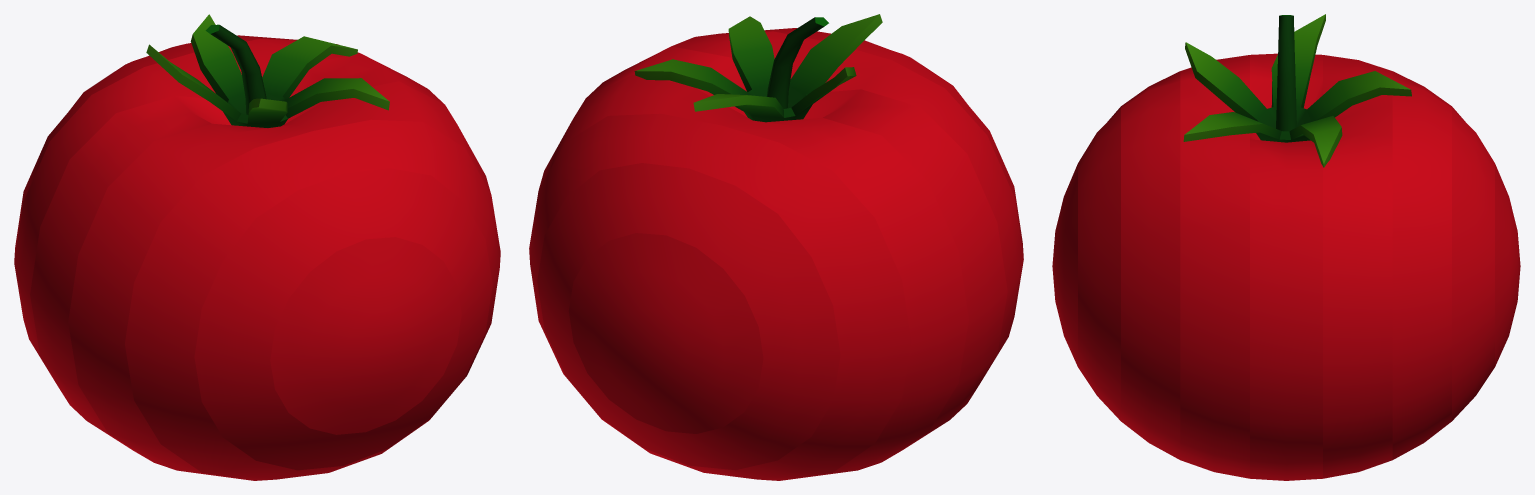
The model's file is totmoto.fbx.
The picture shows the model from 3 angles, left to right: view 1: azimuth 30°, elevation 25°; view 2: azimuth 150°, elevation 25°; view 3: azimuth 270°, elevation 25°; orthographic projection. The views are drawn at different scales.
Parts seen in each view (by area): view 1: Tomato, Tomato_Slice_01; view 2: Tomato, Tomato_Slice_09; view 3: Tomato, Tomato_Slice_01, Tomato_Slice_09.
Boxes of the visible parts, box(x1,y1,x2,y2) form: Tomato: box(14, 14, 500, 480); Tomato_Slice_01: box(270, 237, 461, 434); Tomato: box(529, 14, 1023, 480); Tomato_Slice_09: box(568, 233, 763, 433); Tomato: box(1078, 14, 1494, 480); Tomato_Slice_01: box(1052, 164, 1077, 366); Tomato_Slice_09: box(1495, 164, 1520, 366).
Bounding box in the file's own units: 396 × 380 × 396.
